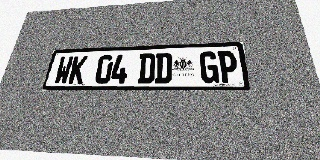0: (94, 55, 114, 84)
4: (110, 54, 129, 84)
D: (137, 53, 156, 84), (155, 53, 172, 83)
G: (200, 51, 219, 83)
K: (68, 56, 88, 84)
P: (217, 50, 239, 83)
W: (53, 56, 74, 84)
